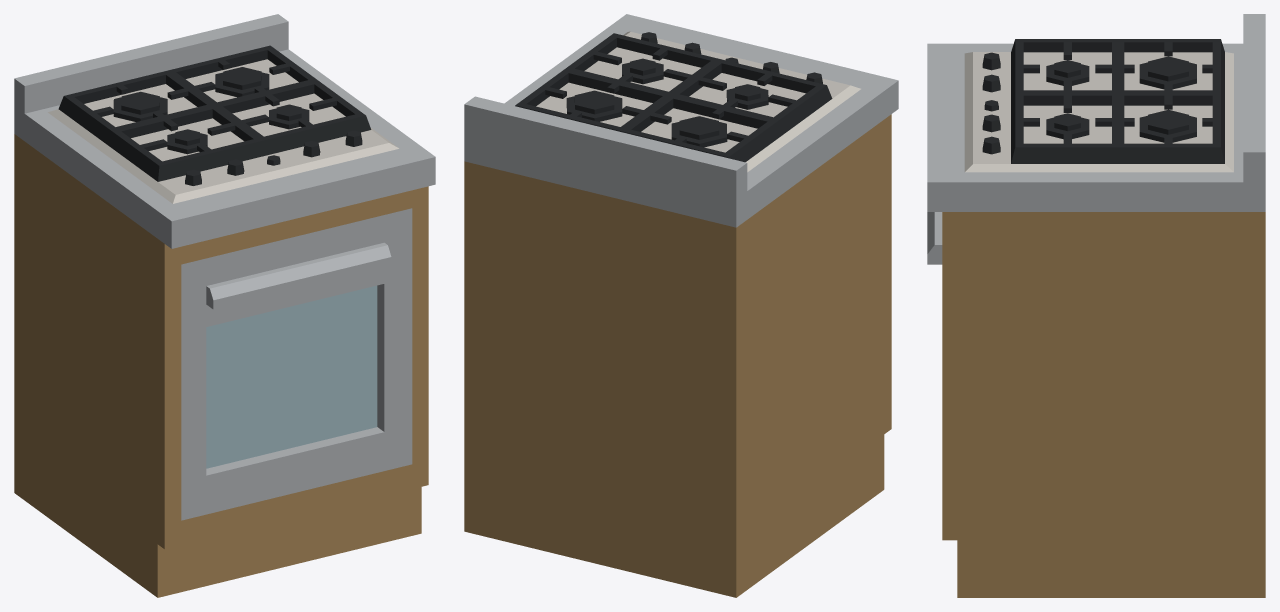
File: cooker_gas.glb
3 views of the same model, side by side, from view 1: azimuth 30°, elevation 25°; view 2: azimuth 150°, elevation 25°; view 3: azimuth 270°, elevation 25° (orthographic). The views are drawn at different scales.
Visible parts, largest first — view 1: cooker_gas; view 2: cooker_gas; view 3: cooker_gas.
Part boxes in pixels (left/top/right/bottom): cooker_gas: left=14, top=14, right=435, bottom=597; cooker_gas: left=464, top=14, right=898, bottom=597; cooker_gas: left=927, top=14, right=1265, bottom=597.
Size of the model in its own units: 0.6 by 0.9 by 0.62.
